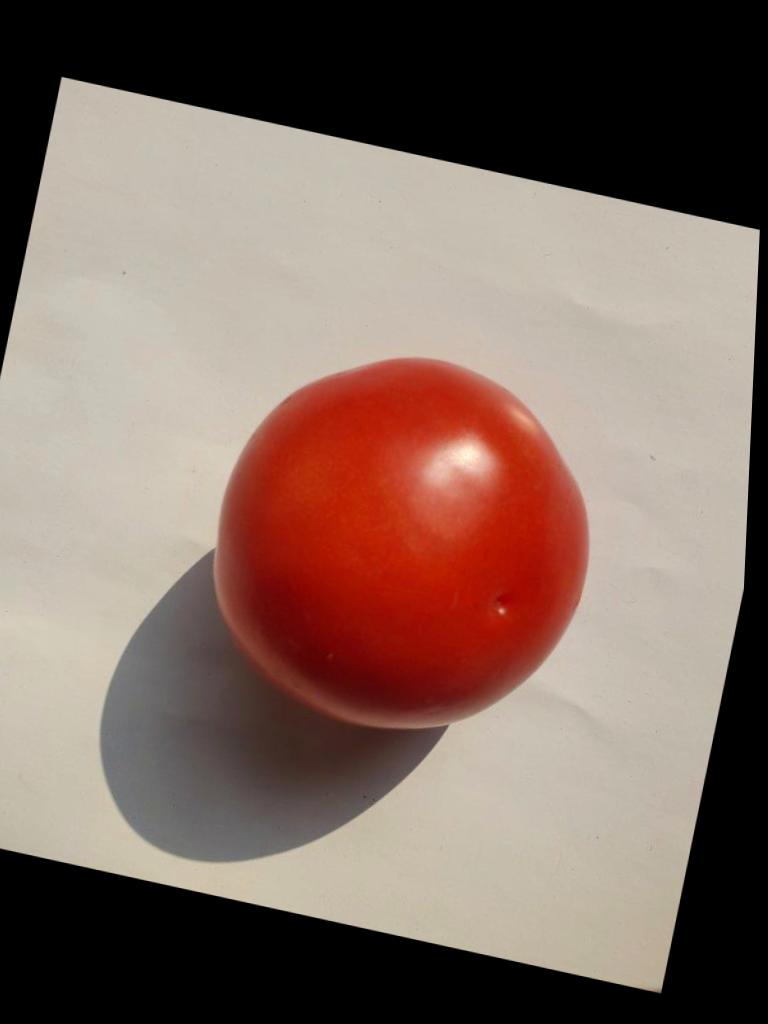tomato: (213, 359, 586, 728)
